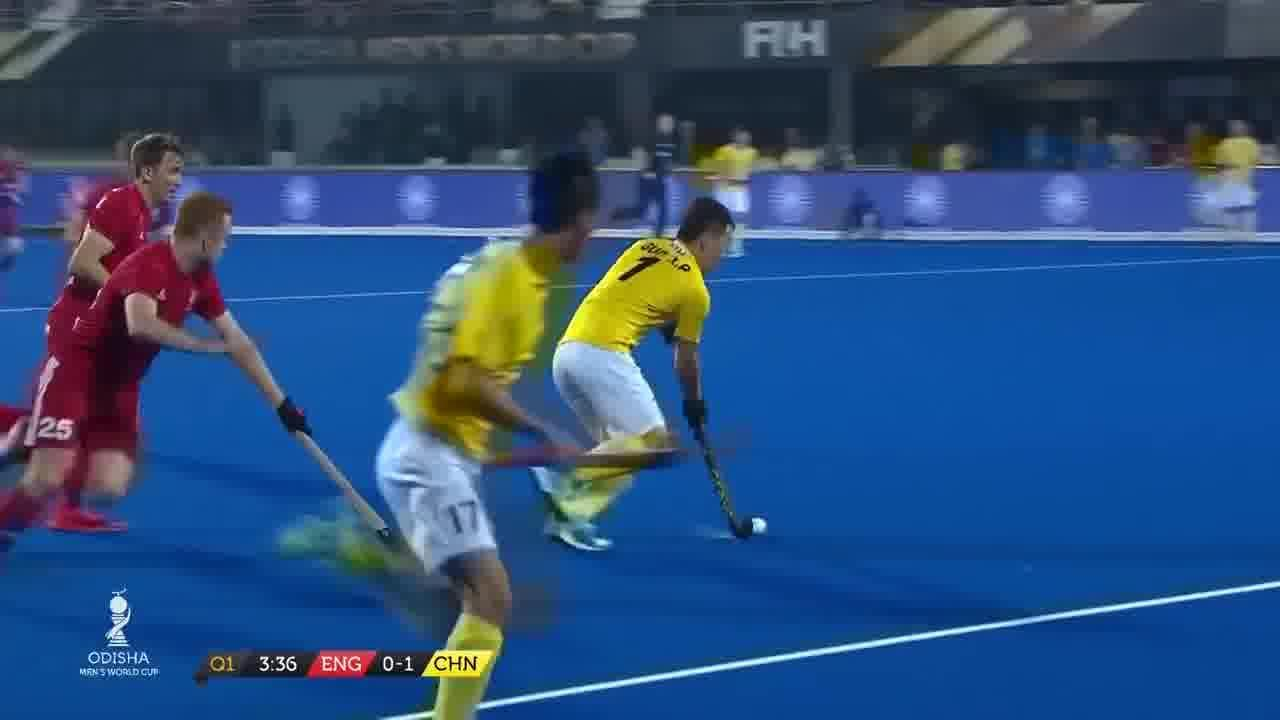ball: (752, 514, 772, 538)
